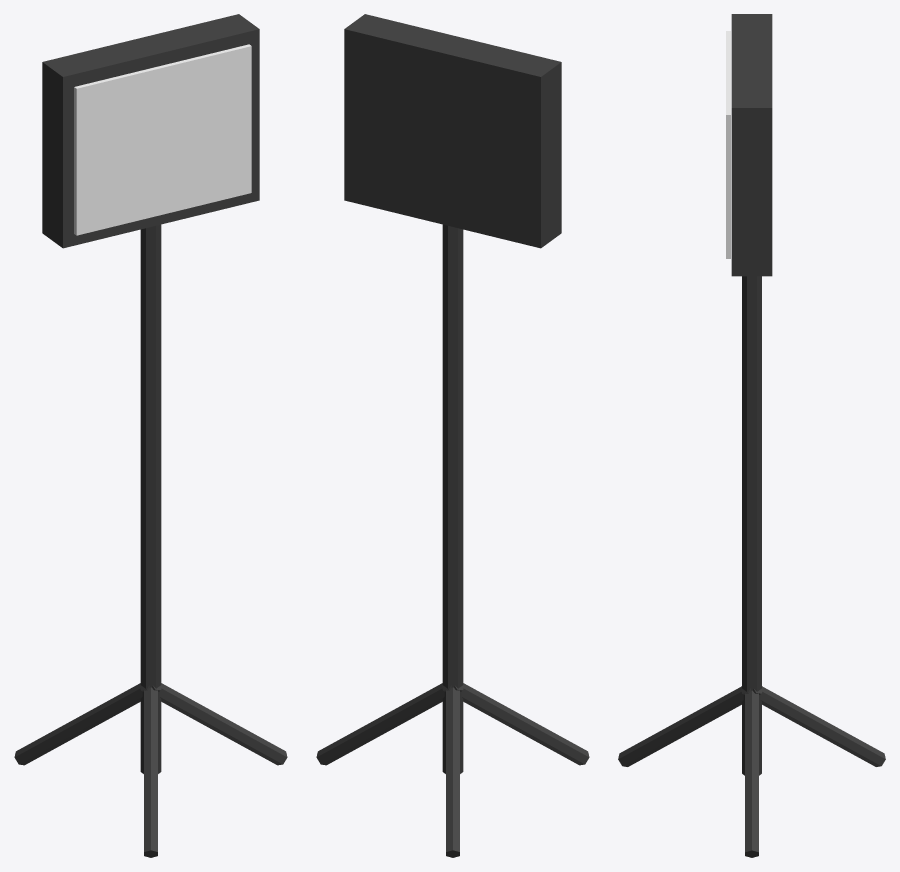
3 views of the same model, side by side, from view 1: azimuth 30°, elevation 25°; view 2: azimuth 150°, elevation 25°; view 3: azimuth 270°, elevation 25° (orthographic).
Parts seen in each view (by area): view 1: Diffuser, Light panel, Pole, Tripod leg, Tripod leg.001, Tripod leg.002; view 2: Light panel, Pole, Tripod leg, Tripod leg.002, Tripod leg.001; view 3: Light panel, Pole, Tripod leg.001, Tripod leg.002, Tripod leg, Diffuser.
Boxes of the visible parts, x1=… form: Diffuser: x1=74, y1=44, x2=251, y2=235; Light panel: x1=42, y1=14, x2=259, y2=248; Pole: x1=140, y1=224, x2=161, y2=773; Tripod leg: x1=139, y1=683, x2=287, y2=765; Tripod leg.001: x1=14, y1=683, x2=162, y2=765; Tripod leg.002: x1=144, y1=687, x2=157, y2=857; Light panel: x1=344, y1=14, x2=561, y2=248; Pole: x1=442, y1=224, x2=463, y2=773; Tripod leg: x1=316, y1=683, x2=464, y2=765; Tripod leg.002: x1=441, y1=683, x2=589, y2=765; Tripod leg.001: x1=446, y1=687, x2=459, y2=857; Light panel: x1=731, y1=14, x2=772, y2=276; Pole: x1=742, y1=276, x2=761, y2=775; Tripod leg.001: x1=741, y1=686, x2=885, y2=766; Tripod leg.002: x1=618, y1=686, x2=762, y2=766; Tripod leg: x1=745, y1=690, x2=758, y2=857; Diffuser: x1=726, y1=31, x2=730, y2=258.
Size of the model in its own units: 0.7183 by 2.21 by 0.7277.
Materials: 1 (1 with a texture image).
